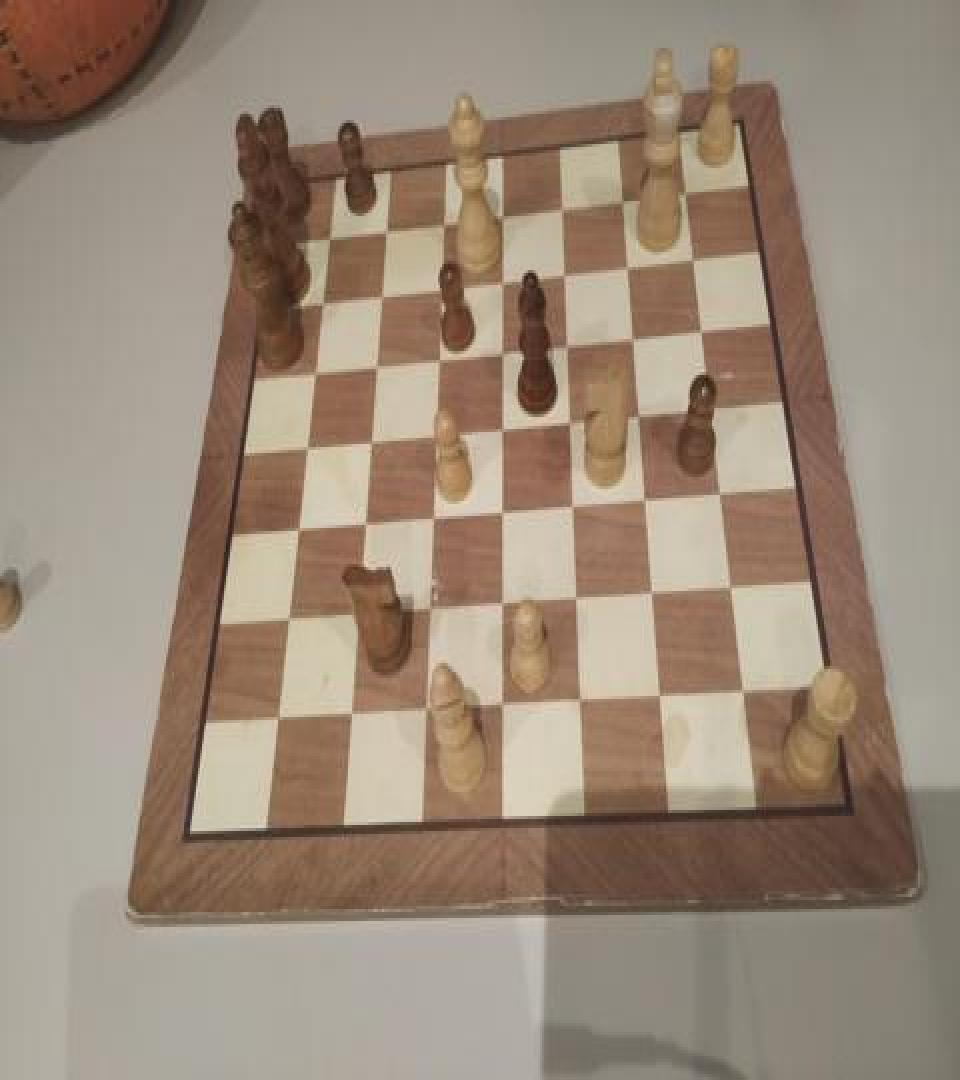xcorner: (634, 400, 654, 431), (269, 706, 289, 736), (343, 702, 363, 732), (496, 693, 516, 723), (655, 684, 675, 714), (738, 680, 758, 710), (279, 606, 299, 636), (422, 597, 442, 627), (496, 591, 516, 621), (726, 574, 746, 604), (288, 516, 308, 546), (356, 510, 376, 540), (425, 504, 445, 534), (496, 498, 516, 528), (567, 492, 587, 522), (640, 486, 660, 516), (715, 480, 735, 510), (297, 432, 317, 462), (362, 426, 382, 456), (428, 420, 448, 450), (496, 414, 516, 444), (564, 406, 584, 436), (705, 394, 725, 424), (305, 356, 325, 386), (367, 350, 387, 380), (431, 342, 451, 372), (496, 336, 516, 366), (561, 328, 581, 358), (628, 322, 648, 352), (696, 315, 716, 345), (312, 285, 332, 315), (372, 278, 392, 308), (433, 272, 453, 302), (495, 264, 515, 294), (559, 256, 579, 286), (623, 250, 643, 280), (688, 243, 708, 273), (319, 219, 339, 249), (377, 213, 397, 243), (436, 206, 456, 236), (495, 198, 515, 228), (556, 190, 576, 220), (618, 183, 638, 213), (680, 176, 700, 206), (419, 698, 439, 727), (575, 689, 595, 718), (350, 602, 370, 631), (571, 587, 591, 616), (648, 581, 668, 610)
